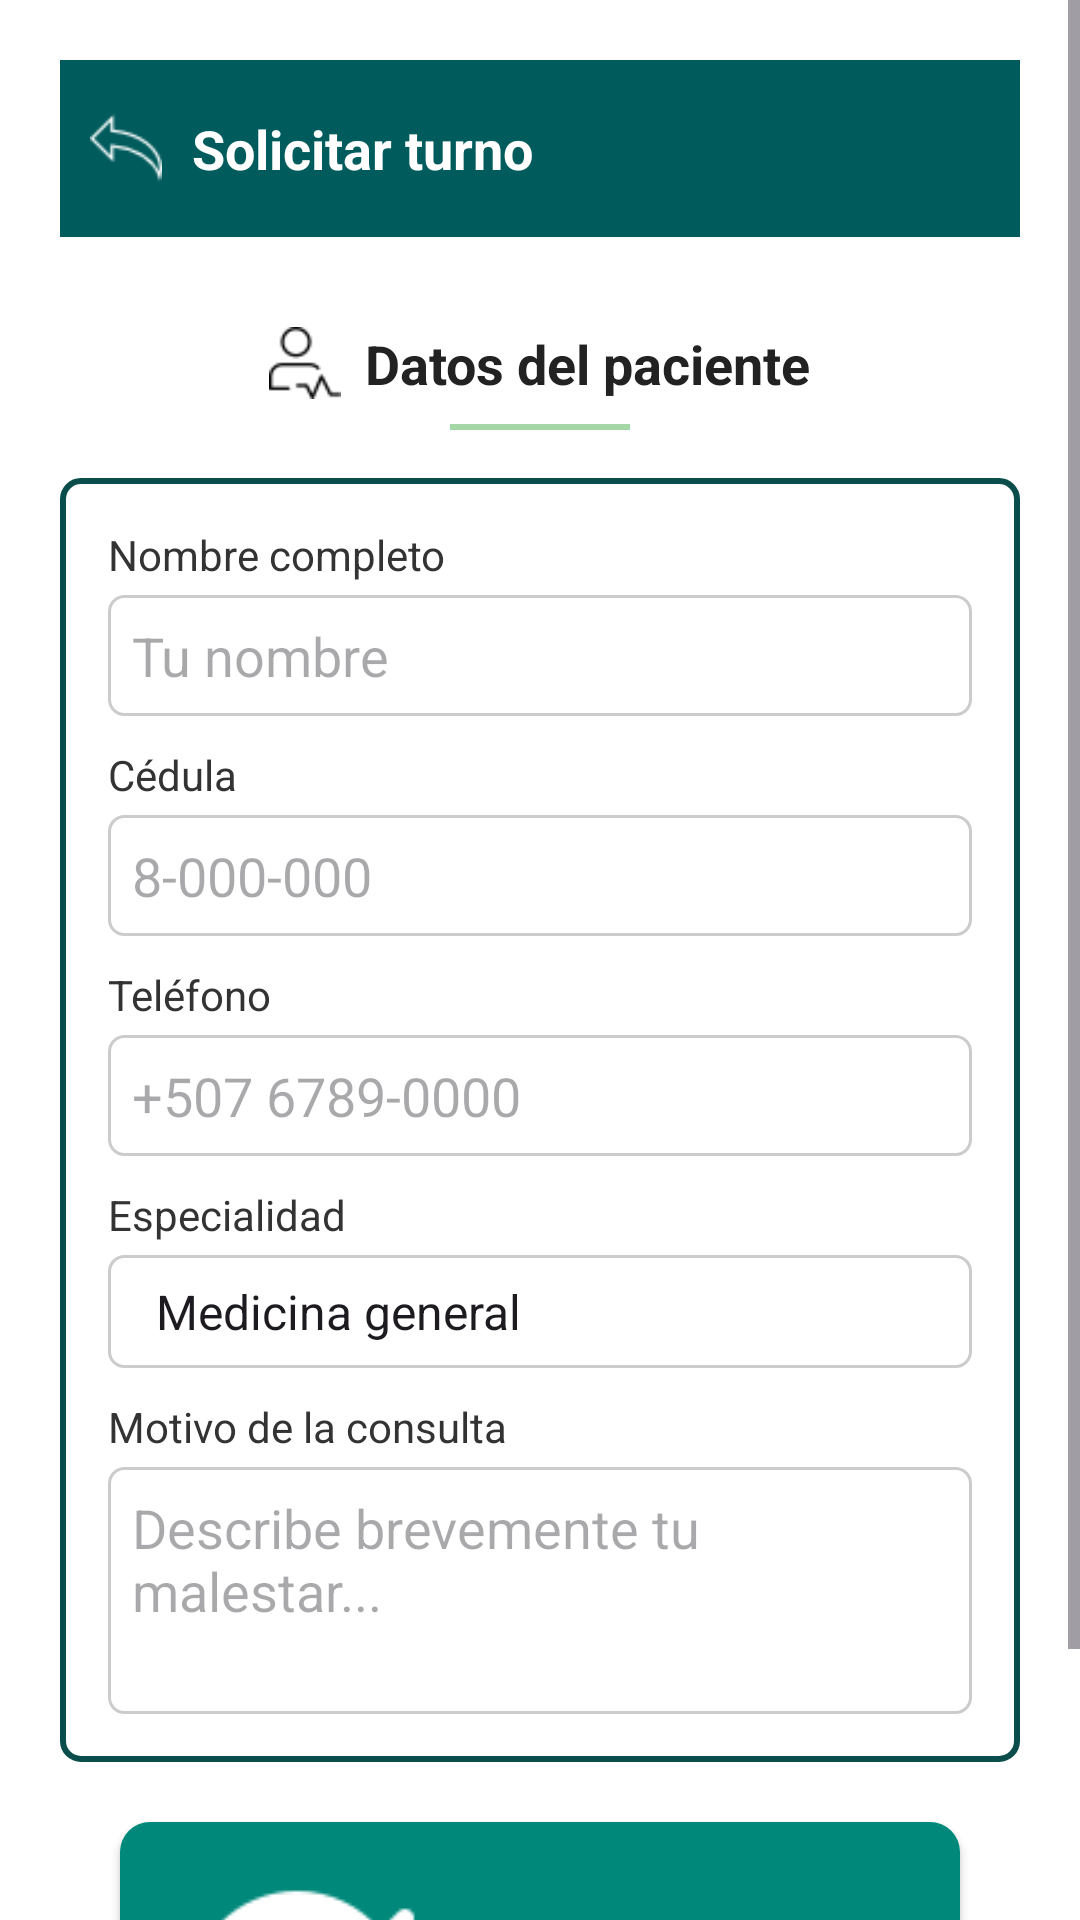

Where icons sit on this 1080px×1920px app screen, as (x1, y1, x2, y2):
atras: (90, 114, 162, 180)
